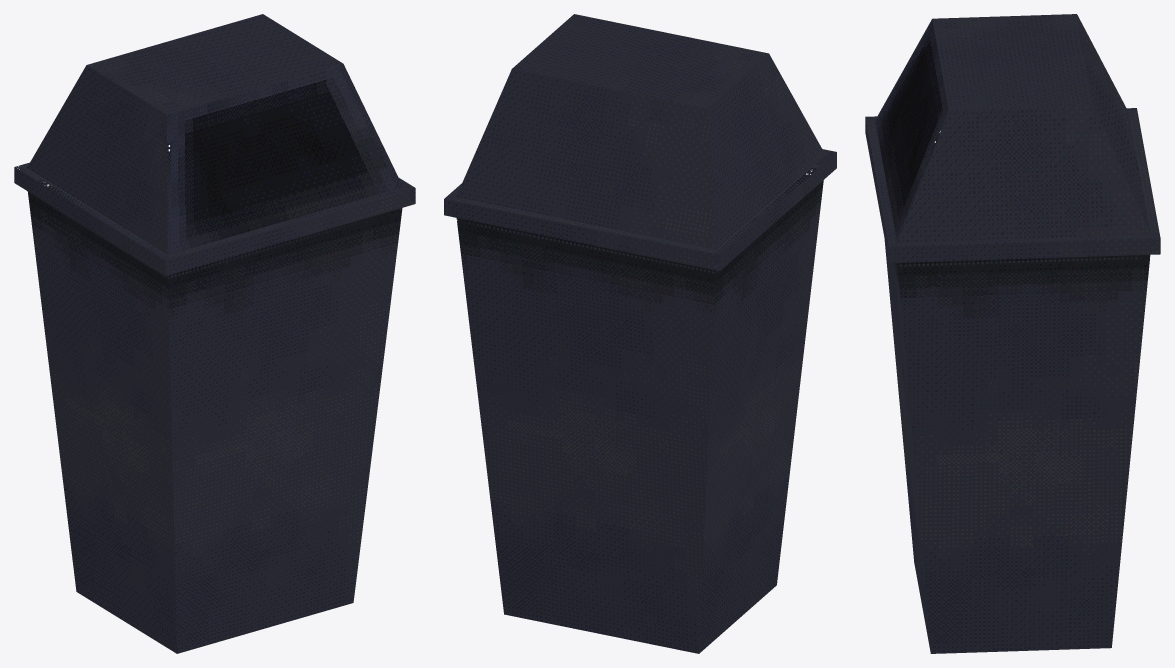
File: trash_can_psx.glb
3 views of the same model, side by side, from view 1: azimuth 30°, elevation 25°; view 2: azimuth 150°, elevation 25°; view 3: azimuth 270°, elevation 25° (orthographic).
Parts seen in each view (by area): view 1: trash can_0; view 2: trash can_0; view 3: trash can_0.
Boxes of the visible parts, x1,y1,x2,y2 form: trash can_0: (14,14,415,653); trash can_0: (444,14,836,653); trash can_0: (865,14,1160,653).
Bounding box in the file's own units: 1.13 × 2.06 × 1.02.
Materials: 1 (1 with a texture image).
